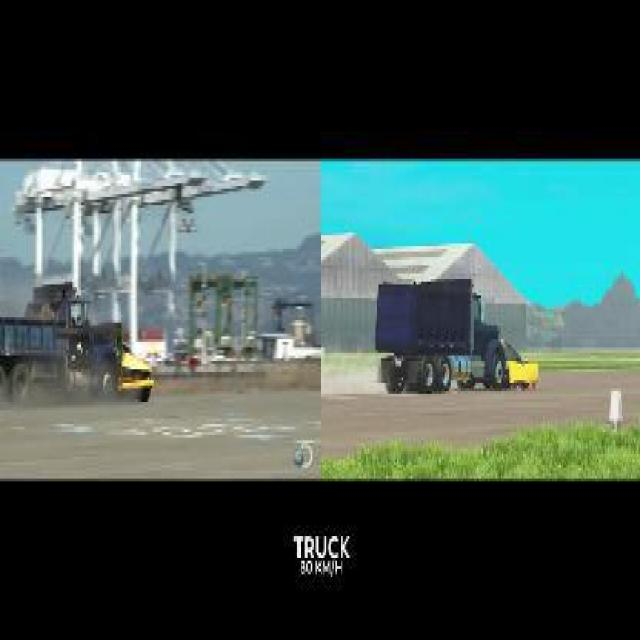accident: (0, 268, 154, 418), (369, 268, 545, 399)
